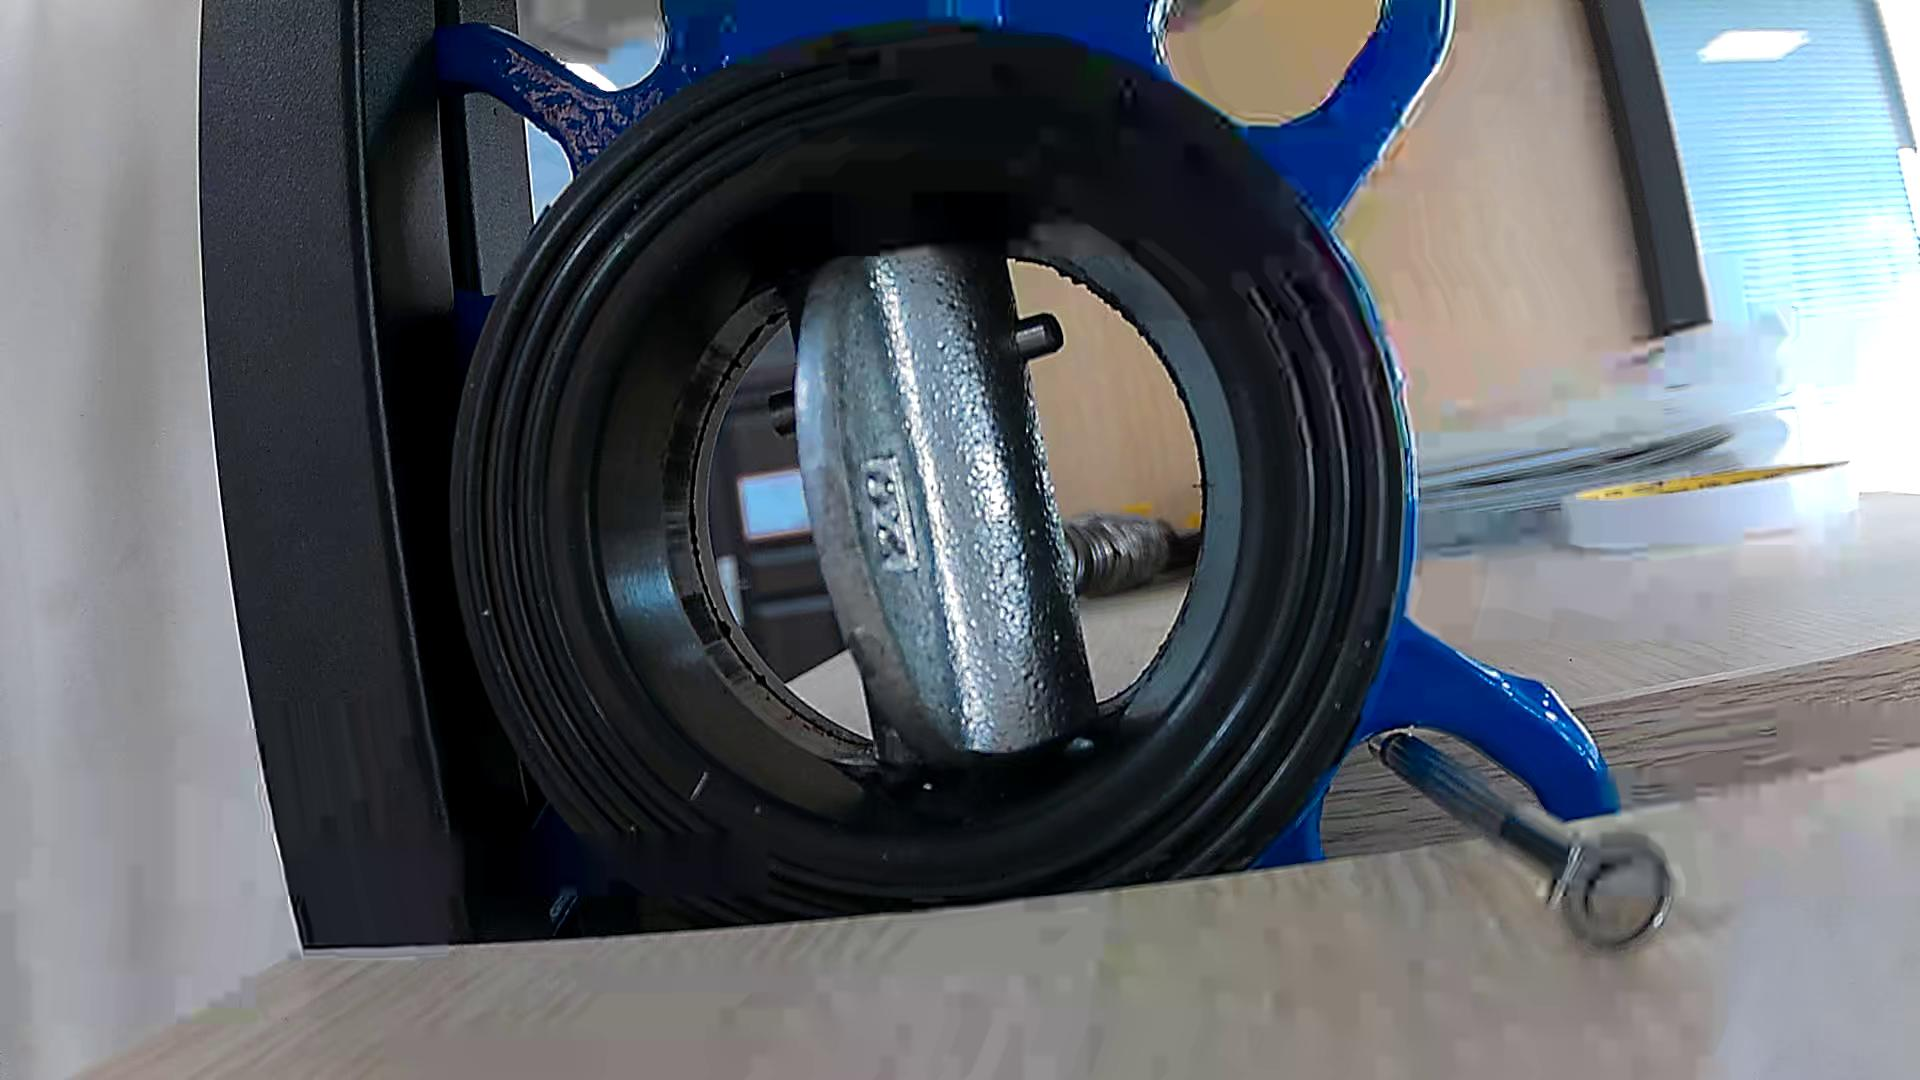empty: (708, 256, 1200, 754)
valve: (769, 244, 1100, 769)
